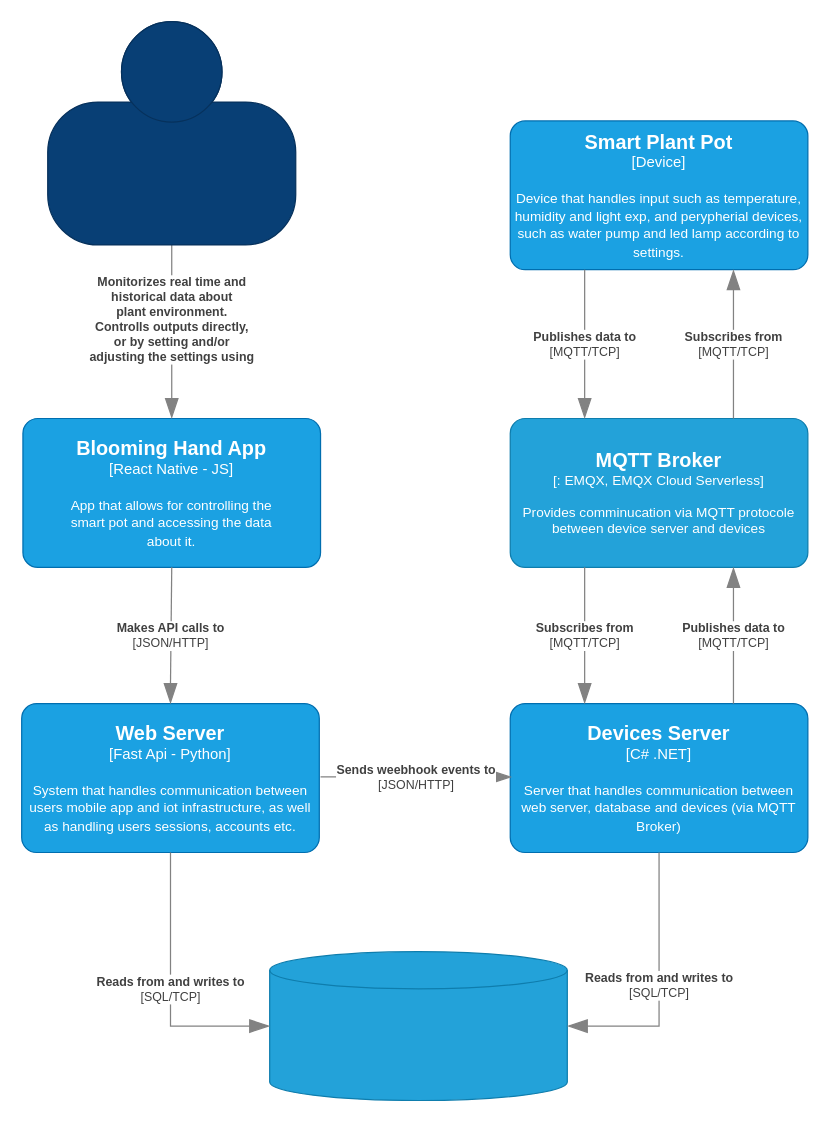
Some shapes in this 830 by 1122 pixel diagram are drawn without their labels. Here are the shapes that lost their labels. From the top down, the centre of each, then its label:
At point 171,132: "App User [User] Owner of Smart Plant Pot".
At point 417,1025: "Database [Container: TimeseriesDB] Aggregates users and devices data".
